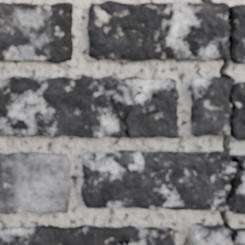brick: (0, 76, 178, 137), (0, 3, 72, 62), (0, 153, 70, 213), (0, 225, 175, 244)
broken_brick: (80, 149, 244, 211), (87, 0, 228, 61), (189, 76, 230, 137), (189, 222, 244, 244), (226, 3, 244, 64), (233, 80, 244, 140), (231, 175, 244, 214)
crack: (217, 2, 244, 242), (108, 85, 143, 138), (199, 0, 212, 4), (105, 56, 113, 59)
